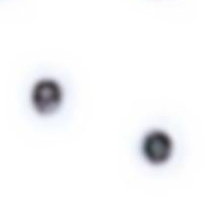cancer: (13, 64, 81, 132), (127, 114, 193, 181)
